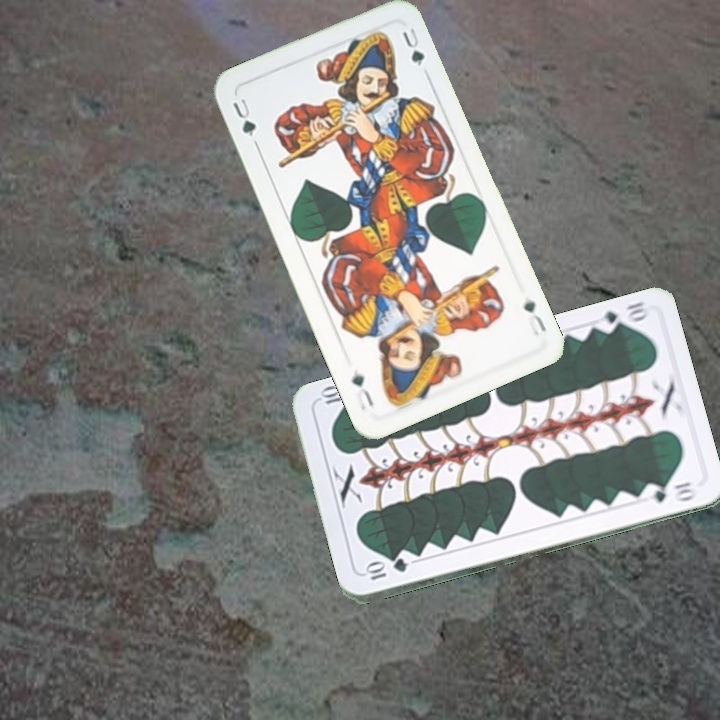G10: (592, 297, 650, 336), (361, 556, 410, 583)
GU: (228, 94, 259, 140), (519, 294, 549, 339)
